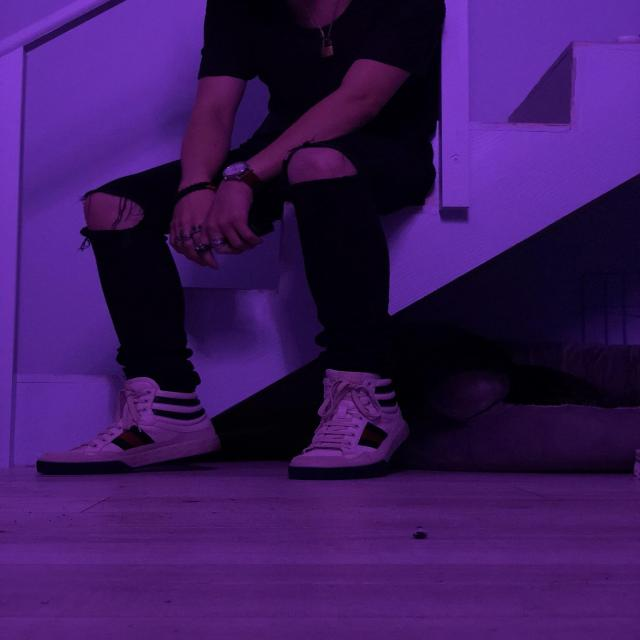shoe: (33, 374, 225, 475), (285, 368, 415, 483)
